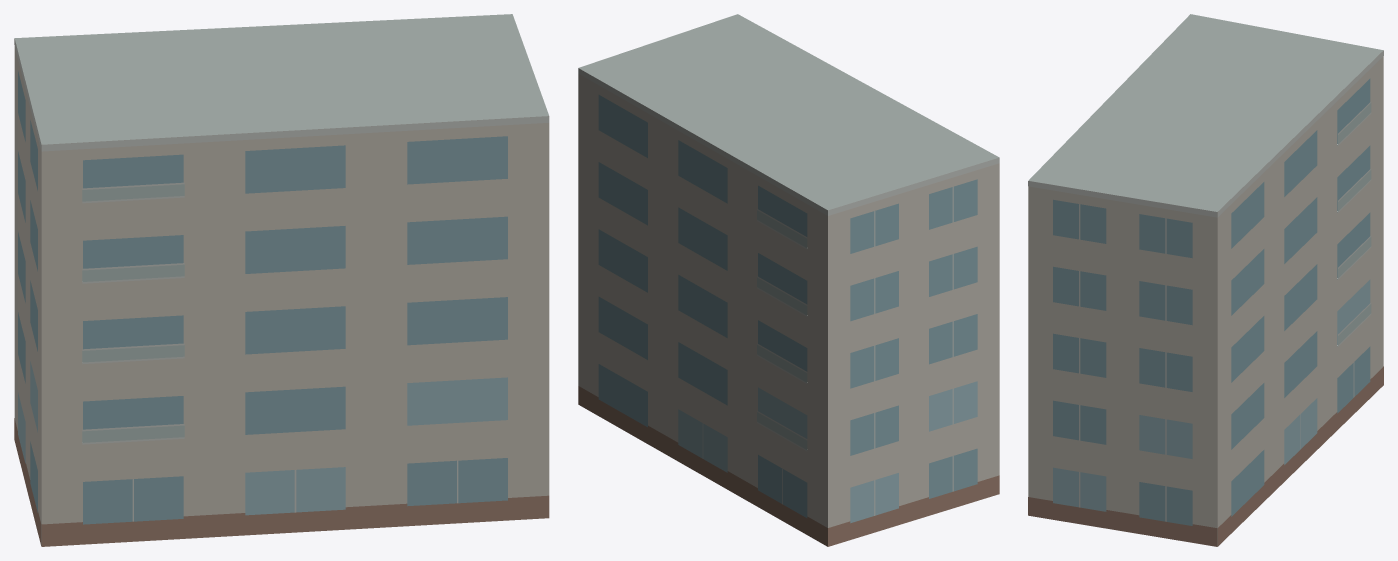
The model's file is survey-upis-32535263.glb.
3 renders of one model, left to right at view 1: azimuth 30°, elevation 25°; view 2: azimuth 150°, elevation 25°; view 3: azimuth 270°, elevation 25°, orthographic. The views are drawn at different scales.
Visible parts, largest first — view 1: survey-upis-32535263.tmp; view 2: survey-upis-32535263.tmp; view 3: survey-upis-32535263.tmp.
Boxes of the visible parts, x1,y1,x2,y2 form: survey-upis-32535263.tmp: (14, 14, 549, 546); survey-upis-32535263.tmp: (578, 14, 999, 546); survey-upis-32535263.tmp: (1028, 14, 1383, 546).
Bounding box in the file's own units: 18.4 × 14.5 × 13.97.
